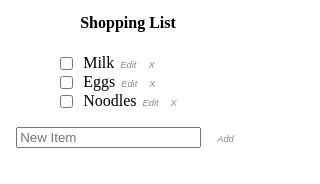
adds to list
Type "cookies" into the field. click: (109, 137)
box: [16,126,201,148]
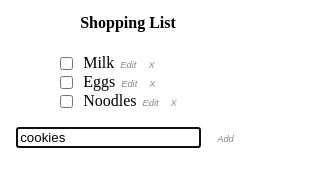
Click the button "Add". click: click(226, 138)
box: [211,132,240,144]
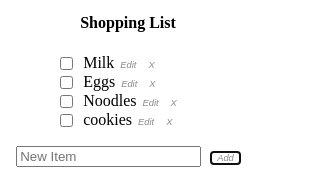
Result: the text "cookies" is shown at [83,110,132,128]
